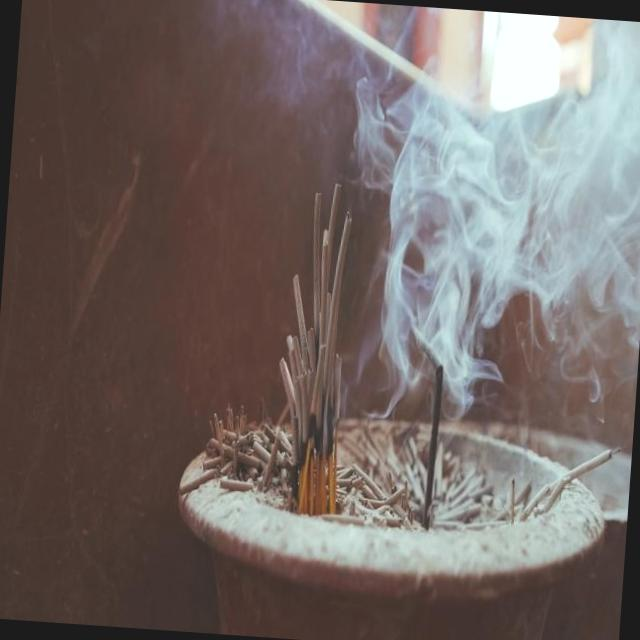smoke: (319, 6, 640, 397)
